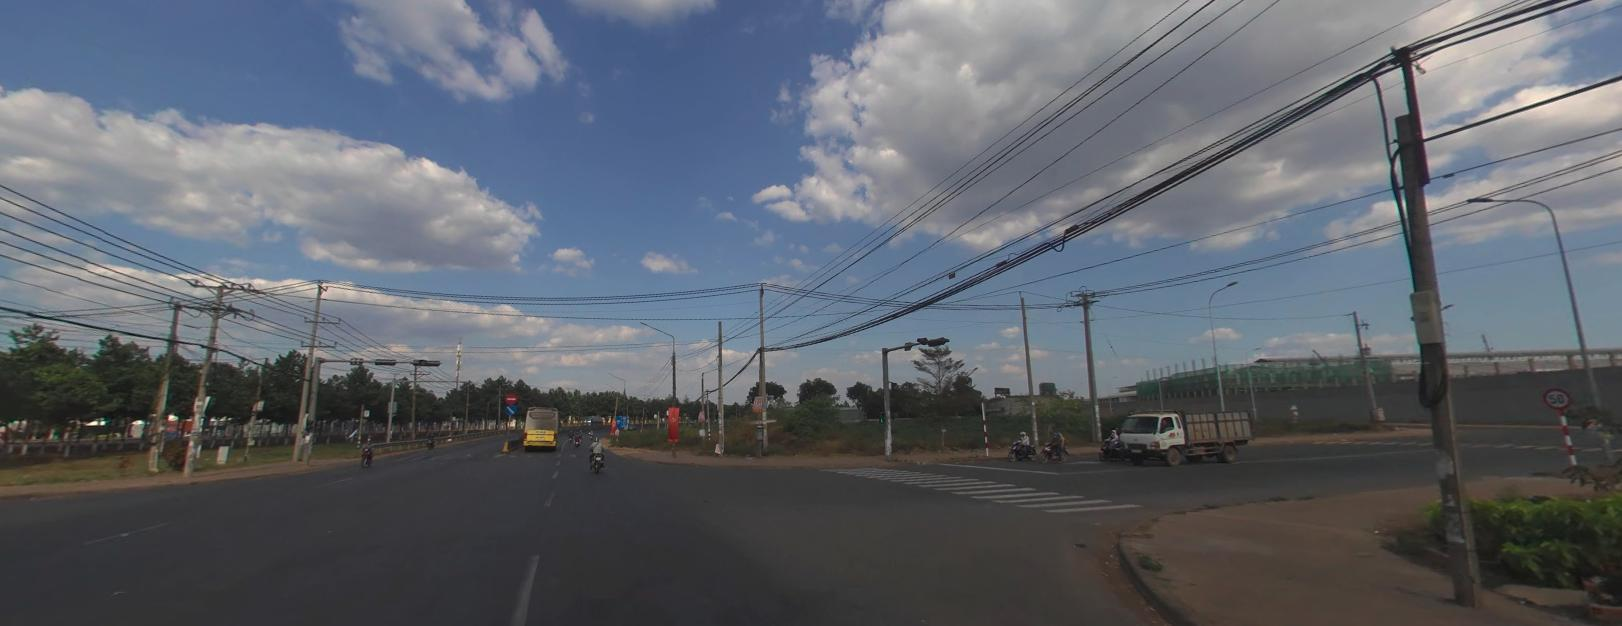Cam nguoc chieu: (505, 392, 516, 403)
Gioi han toc do: (1543, 387, 1569, 406)
Hieu lenh: (506, 403, 517, 413)
